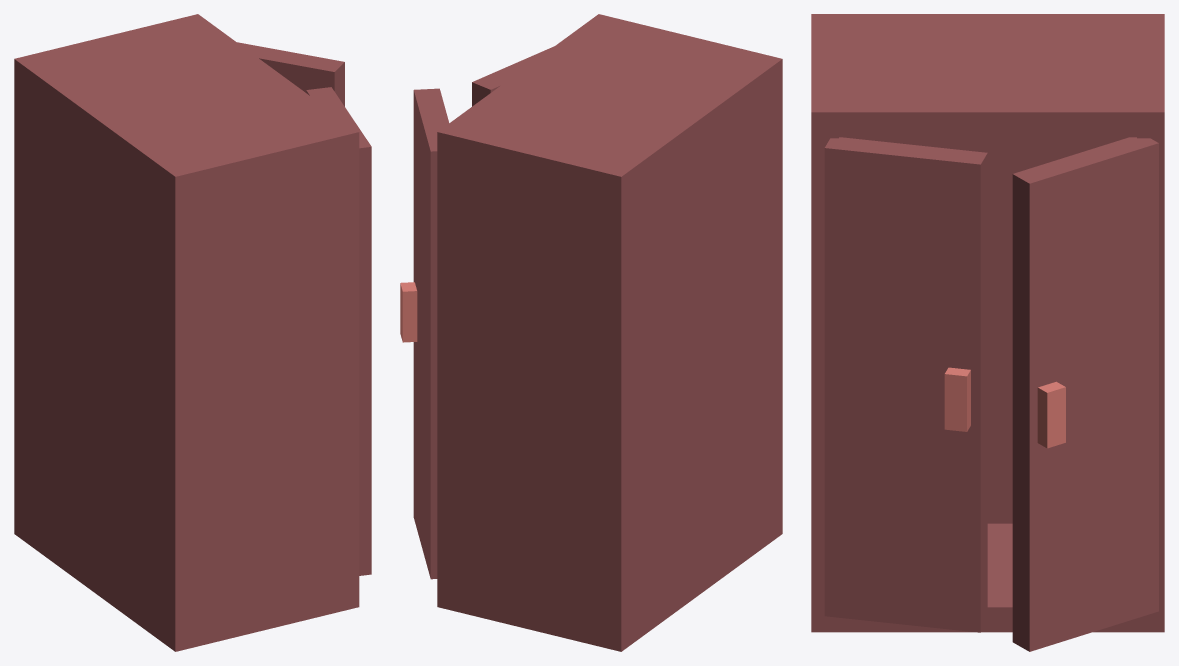
The model's file is closet.fbx.
3 views of the same model, side by side, from view 1: azimuth 30°, elevation 25°; view 2: azimuth 150°, elevation 25°; view 3: azimuth 270°, elevation 25° (orthographic). The views are drawn at different scales.
Visible parts, largest first — view 1: Szafa.001; view 2: Szafa.001; view 3: Szafa.001.
Boxes of the visible parts, x1,y1,x2,y2 form: Szafa.001: [14, 14, 371, 651]; Szafa.001: [400, 14, 782, 651]; Szafa.001: [811, 14, 1164, 651].
Bounding box in the file's own units: 197 × 325 × 200.
